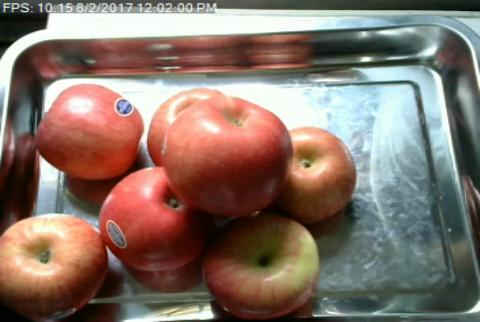apple: (162, 96, 293, 216), (204, 216, 319, 315), (0, 213, 107, 317), (35, 83, 143, 178), (105, 166, 200, 273), (276, 126, 356, 224)
